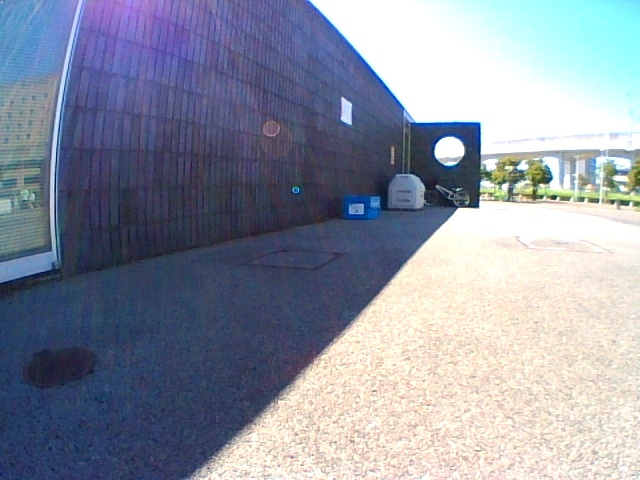blue_box: (345, 196, 380, 219)
tag: (349, 204, 363, 214)
